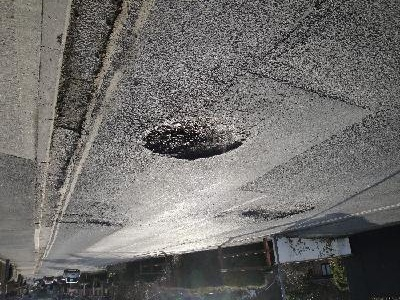pothole: (139, 115, 251, 162), (241, 202, 316, 221), (126, 135, 127, 137)
